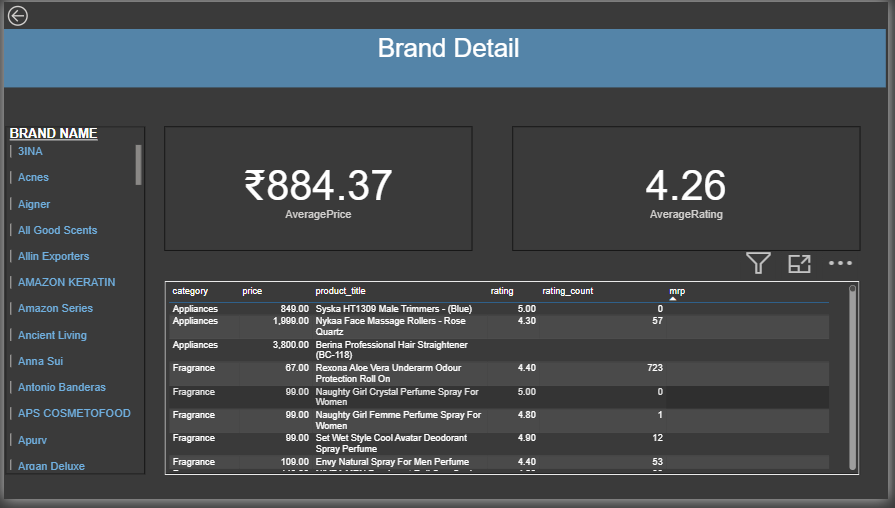

Layout of this report page (visuals, bound fields, positions):
{"tool":"powerbi","page":{"name":"Page 3","canvas":[1280,720],"ordinal":2},"visuals":[{"type":"tableEx","fields":{"Values":["nykaa_products products.category","nykaa_products products.price","nykaa_products products.product_title","nykaa_products products.rating","nykaa_products products.rating_count","nykaa_products products.mrp"]},"box":[232,404,1008,280],"z":0},{"type":"actionButton","box":[0,0,100,40],"z":1},{"type":"card","fields":{"Values":["nykaa_products products.AveragePrice"]},"box":[232,180,446,180],"z":5},{"type":"card","fields":{"Values":["nykaa_products products.AverageRating"]},"box":[736,180,504,180],"z":6},{"type":"multiRowCard","title":"BRAND NAME","fields":{"Values":["nykaa_products products.brand_name"]},"box":[2,180,202,504],"z":7},{"type":"textbox","box":[0,39.1,1278.3,84.8],"z":9}]}

Visuals, with their boxes in screenshot pixels (x1, y1, x2, y2), scaled from the page's 1280x720 canvas onto the 895x508 screenshot:
tableEx - nykaa_products products.category x nykaa_products products.price: box(162, 285, 867, 483)
actionButton: box(0, 0, 70, 28)
card - nykaa_products products.AveragePrice: box(162, 127, 474, 254)
card - nykaa_products products.AverageRating: box(515, 127, 867, 254)
"BRAND NAME" multiRowCard: box(1, 127, 143, 483)
textbox: box(0, 28, 894, 87)
